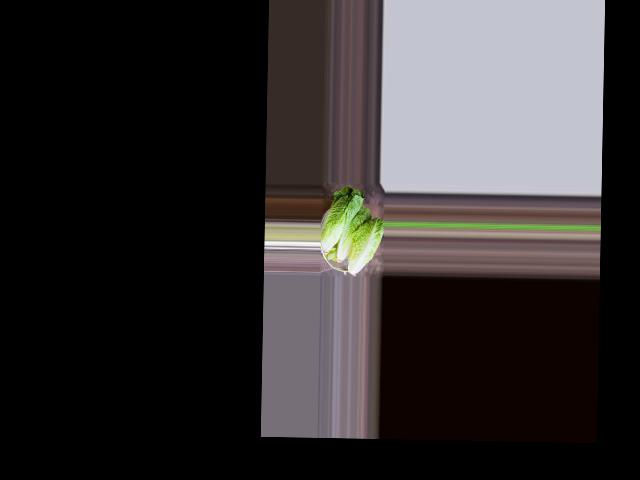lettuce: (320, 188, 365, 260)
